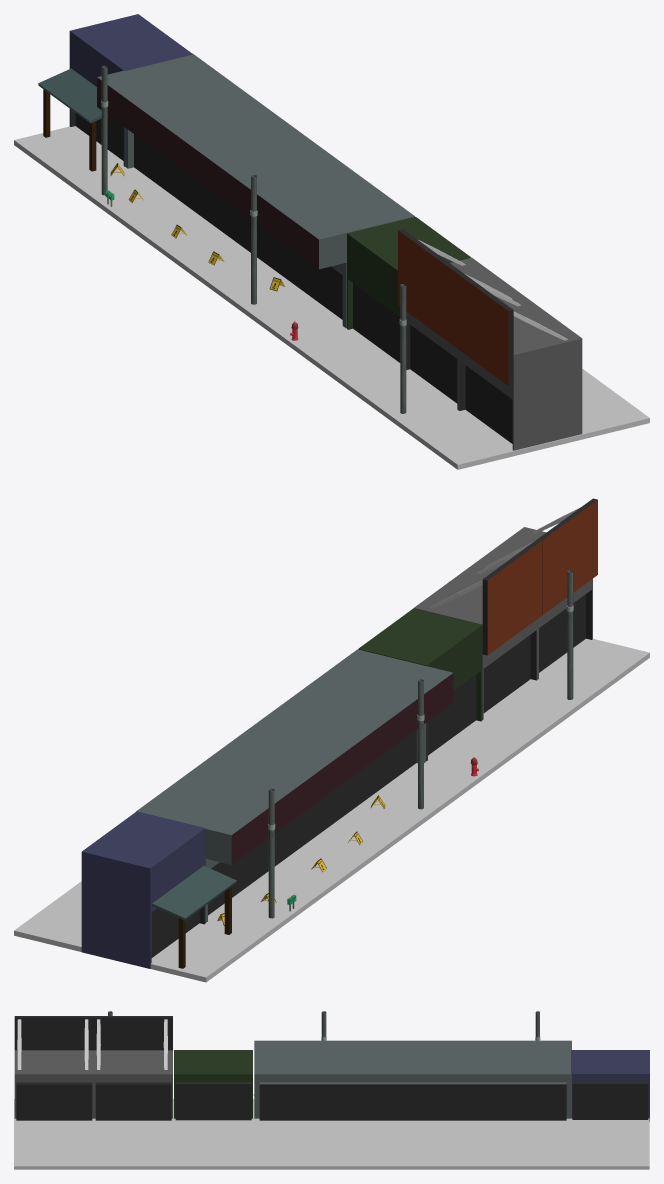
File: Bloco 3.fbx
The picture shows the model from 3 angles, top to bottom: view 1: azimuth 30°, elevation 25°; view 2: azimuth 150°, elevation 25°; view 3: azimuth 270°, elevation 25°; orthographic projection. The views are drawn at different scales.
Visible parts, largest first — view 1: LojaGrande.001, Calcada, LojaPequena.004, LojaPequena.003, LojaPequena.006, LojaPequena.002, Poste; view 2: LojaGrande.001, Calcada, LojaPequena.003, LojaPequena.006, LojaPequena.004, LojaPequena.002, Poste; view 3: Calcada, LojaGrande.001, LojaPequena.004, LojaPequena.006, LojaPequena.002, LojaPequena.003, Poste.
Part boxes in pixels (bbox=[...]): LojaGrande.001: bbox=[97, 54, 414, 328]; Calcada: bbox=[14, 126, 649, 469]; LojaPequena.004: bbox=[453, 269, 582, 450]; LojaPequena.003: bbox=[38, 14, 192, 171]; LojaPequena.006: bbox=[398, 229, 526, 409]; LojaPequena.002: bbox=[347, 216, 470, 362]; Poste: bbox=[101, 65, 406, 413]; LojaGrande.001: bbox=[136, 649, 453, 922]; Calcada: bbox=[14, 638, 649, 982]; LojaPequena.003: bbox=[81, 811, 236, 968]; LojaPequena.006: bbox=[414, 539, 542, 719]; LojaPequena.004: bbox=[469, 498, 597, 679]; LojaPequena.002: bbox=[358, 608, 482, 760]; Poste: bbox=[268, 570, 573, 918]; Calcada: bbox=[14, 1099, 649, 1169]; LojaGrande.001: bbox=[254, 1040, 571, 1120]; LojaPequena.004: bbox=[14, 1016, 93, 1120]; LojaPequena.006: bbox=[94, 1016, 172, 1120]; LojaPequena.002: bbox=[174, 1050, 252, 1120]; LojaPequena.003: bbox=[571, 1050, 649, 1121]; Poste: bbox=[108, 1011, 540, 1040].
Size of the model in its own units: 2000 by 1451 by 8002.
